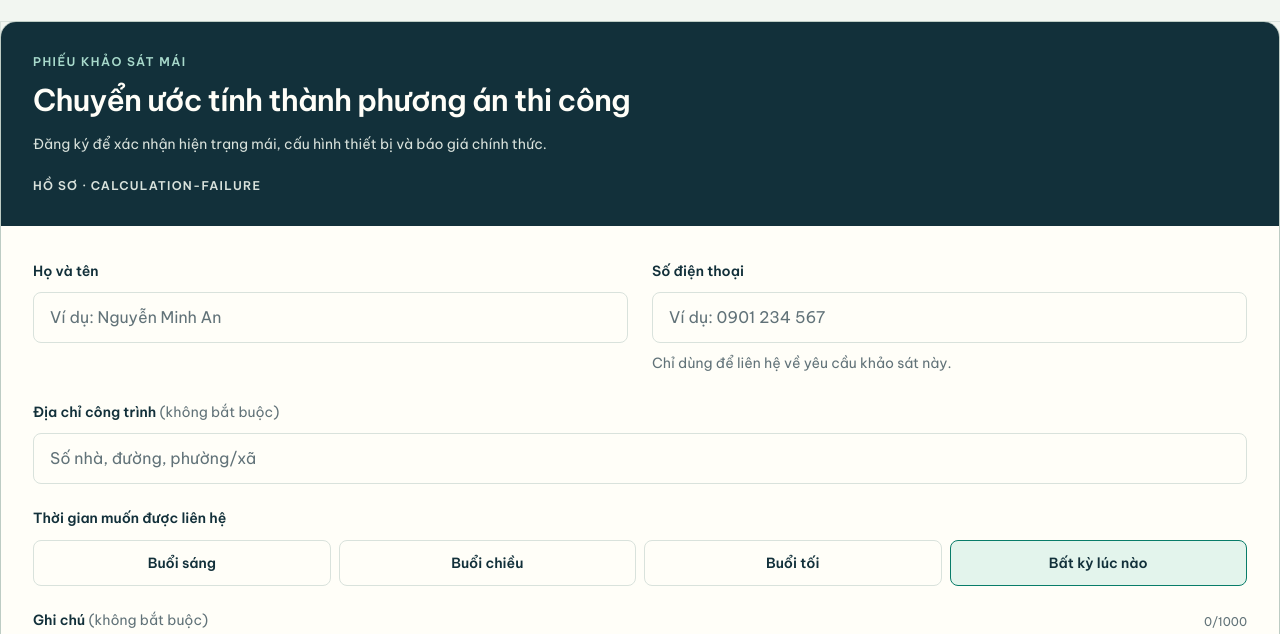
Test: SolarCalculator › giữ dữ liệu lead khi gửi thất bại và cho phép thử lại
This screenshot has width=1280, height=634.
Step 1. Type "Nguyễn Minh An" into the field labelled "Họ và tên" → (330,317), box [33, 292, 628, 343]
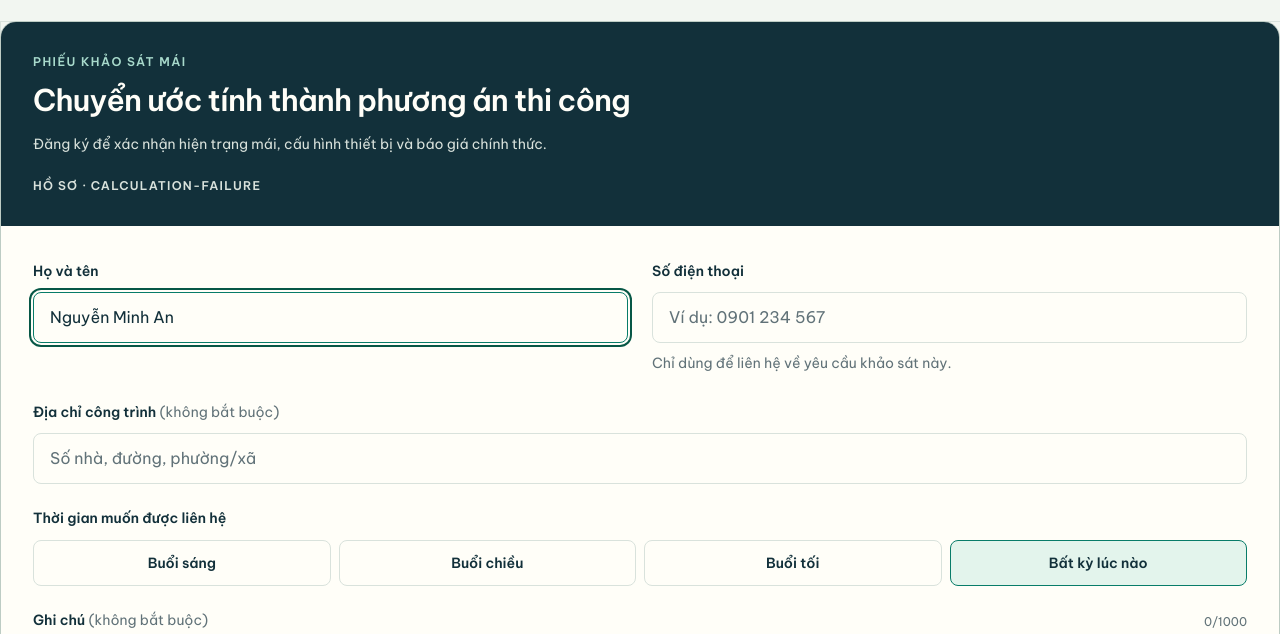
Step 2. Type "0901234567" into the field labelled "Số điện thoại" → (950,317), box [652, 292, 1247, 343]
(page scrolled)
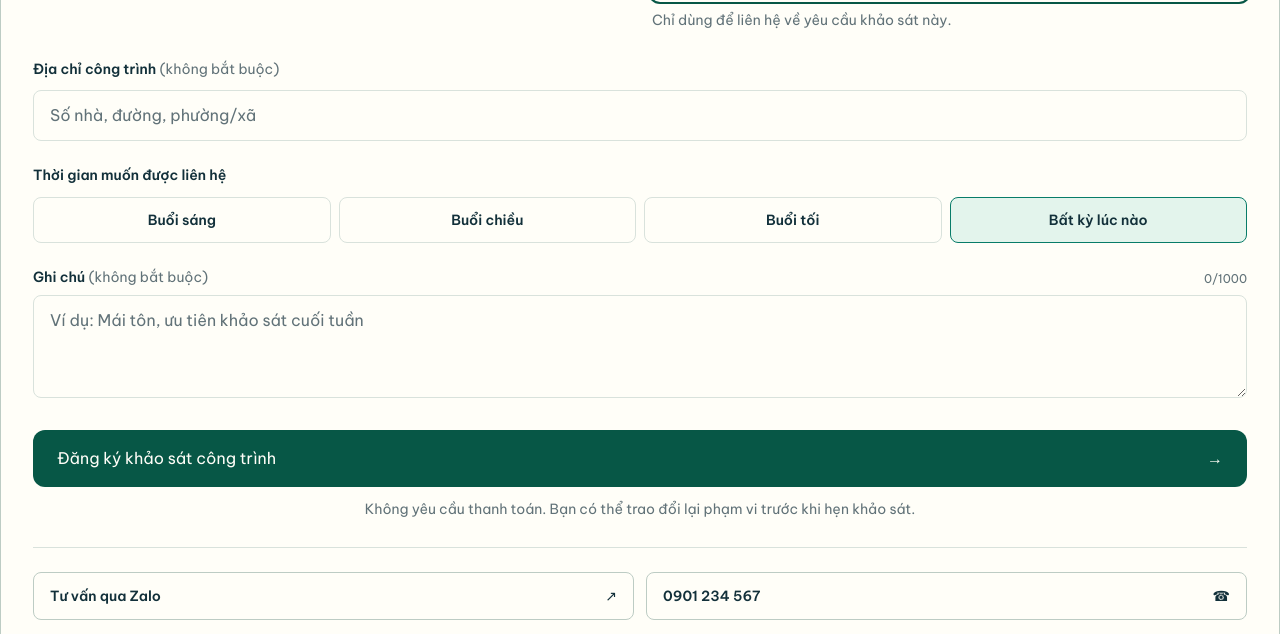
Step 3. Click the button "Đăng ký khảo sát công trình →" → (167,458), box [33, 430, 1247, 487]
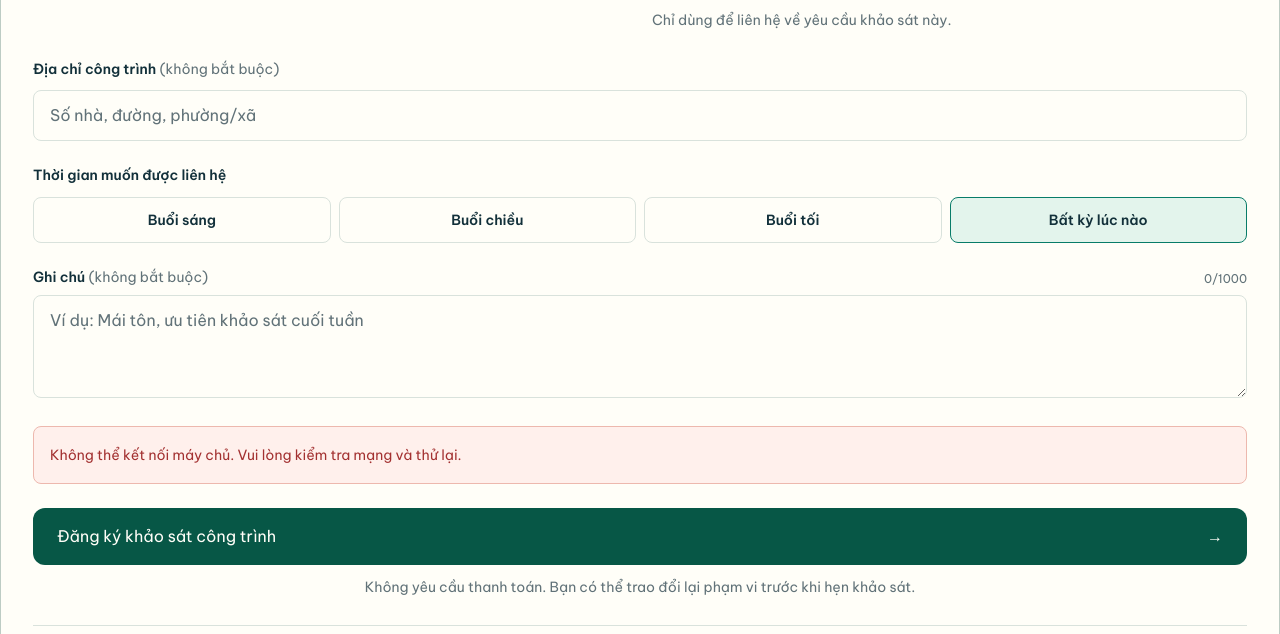
Expected: the button "Đăng ký khảo sát công trình →" is shown, [33, 508, 1247, 565]
Expected: the text "Không thể kết nối máy chủ. Vui lòng kiểm tra mạng và thử lại." is shown, [33, 426, 1247, 484]
